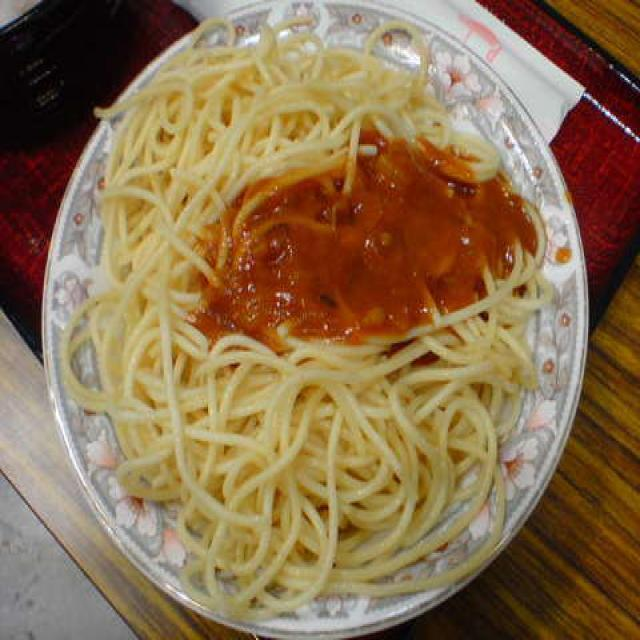Pasta: (100, 39, 537, 565)
